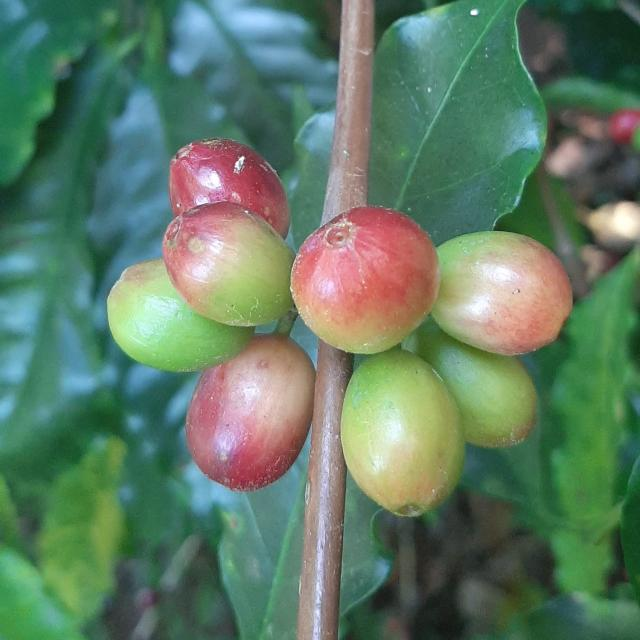green: (341, 348, 466, 517), (403, 320, 538, 449), (107, 259, 254, 372)
yellow: (291, 206, 441, 354), (186, 334, 316, 492), (432, 231, 573, 356), (162, 202, 295, 326), (168, 138, 290, 238)
